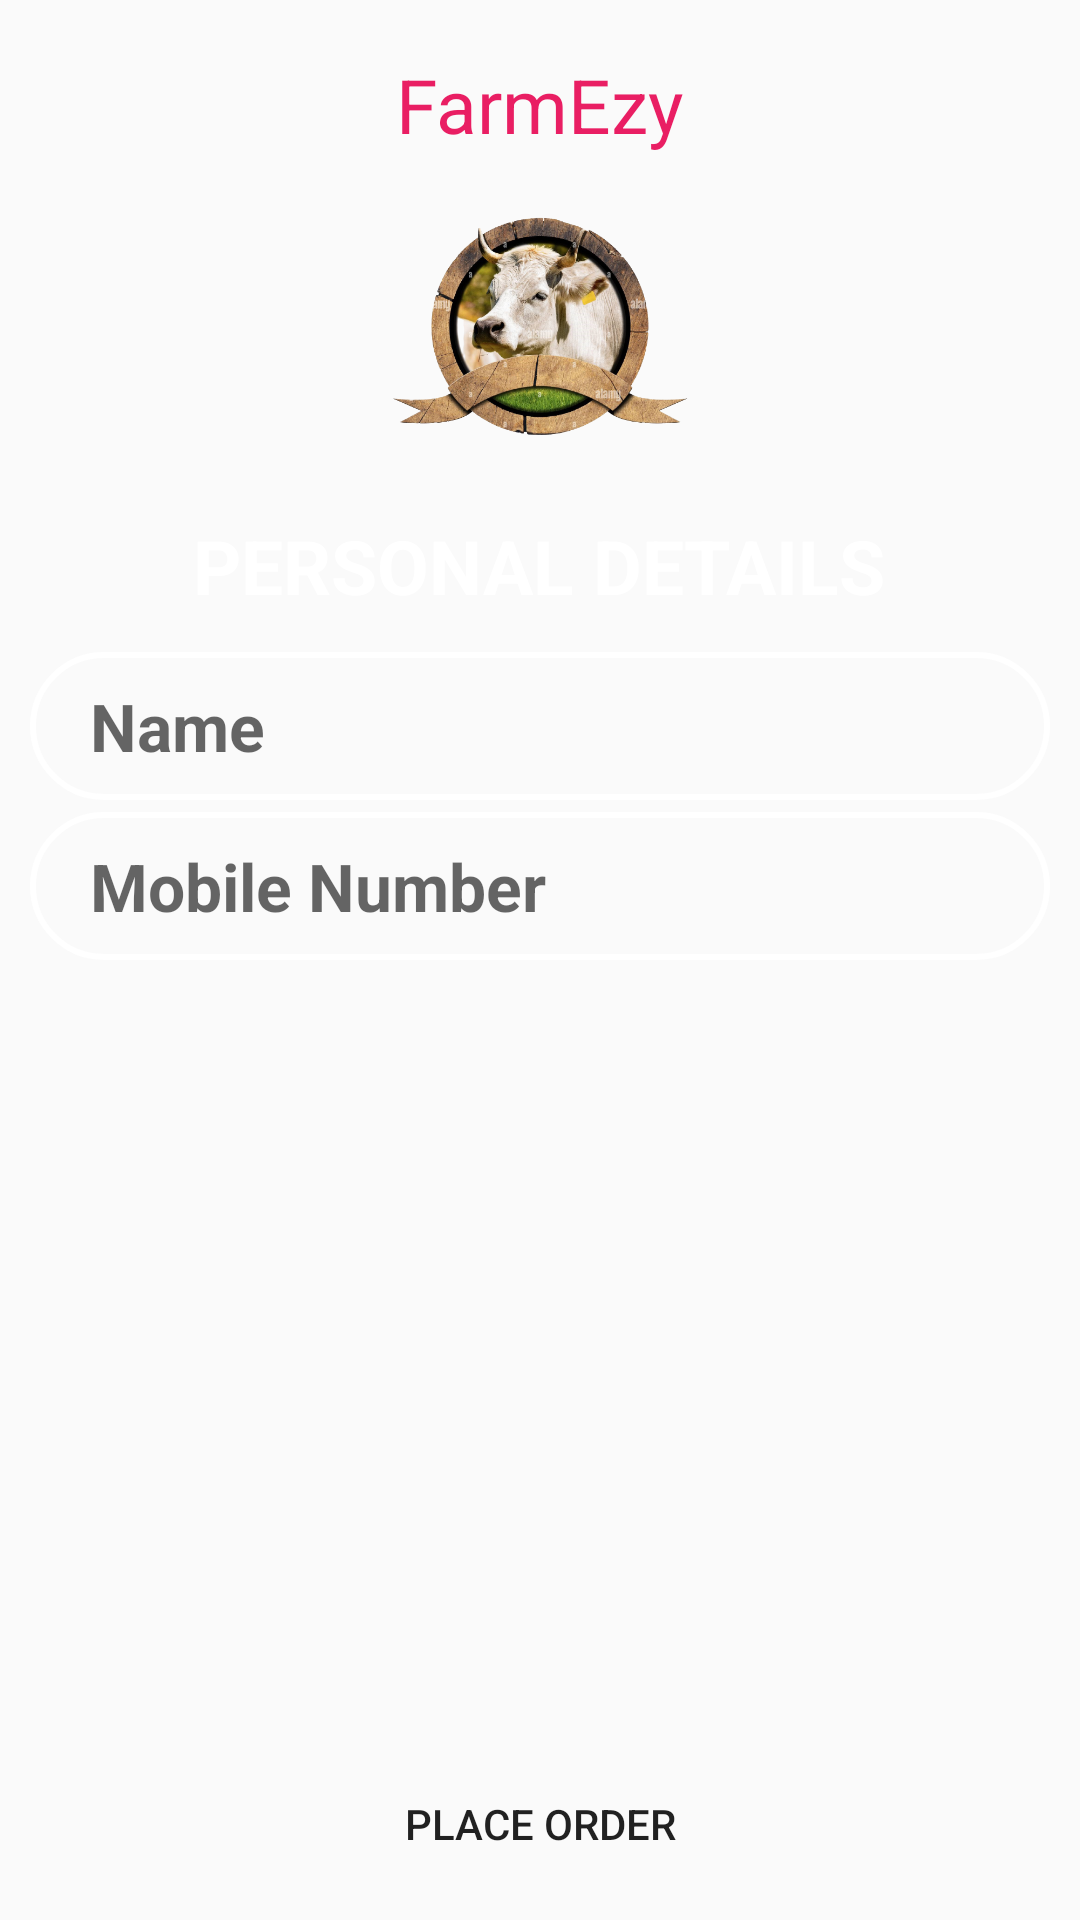

Screen size 1080px×1920px. Icon name, then its box in pixels as region(x1, y1, x2, y2):
cownbg: region(393, 218, 687, 435)
